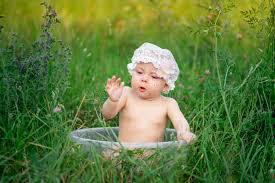child: (97, 40, 204, 162)
